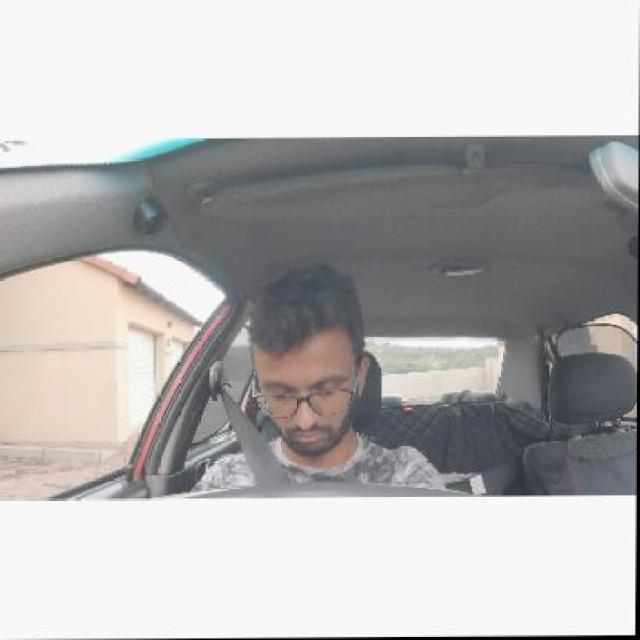drowsy: (232, 269, 384, 485)
